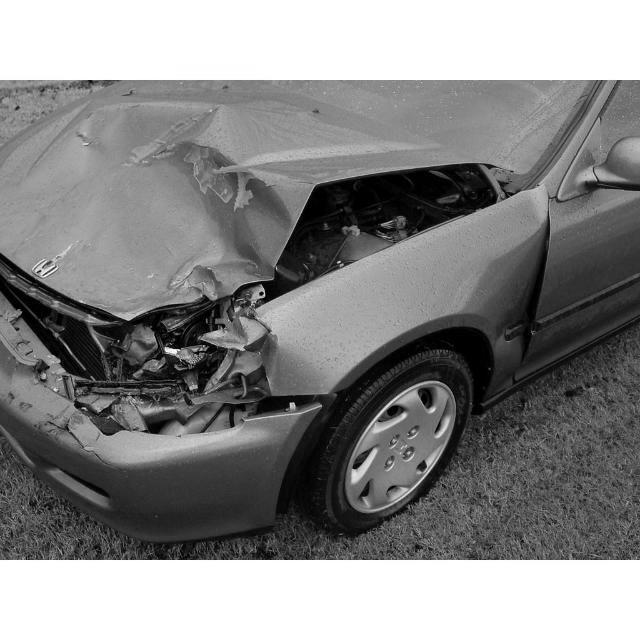Headlight-damage: (110, 299, 290, 419)
bonnet-dent: (8, 80, 428, 310)
fender-dent: (434, 216, 547, 399)
front-bumper-dent: (17, 397, 263, 528)
